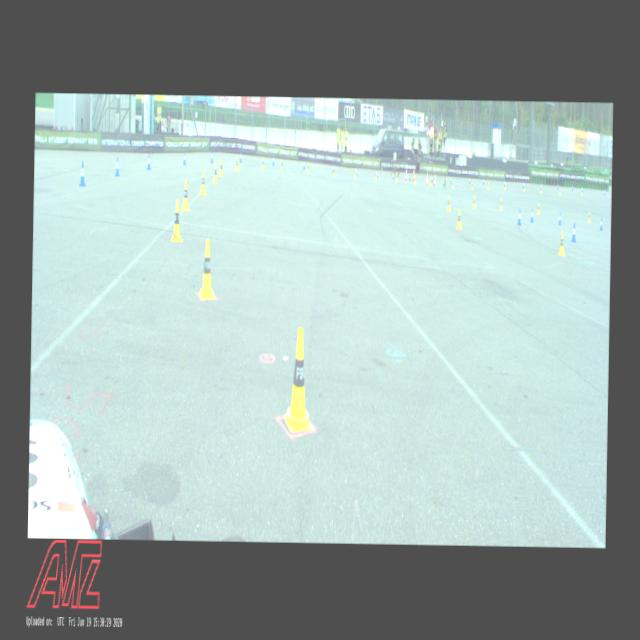blue_cone: (78, 161, 85, 186), (114, 156, 119, 176), (572, 223, 576, 241), (146, 153, 150, 170), (517, 209, 521, 225), (530, 207, 534, 222), (182, 150, 186, 164), (599, 217, 602, 230), (558, 212, 561, 224), (210, 151, 213, 163), (272, 154, 274, 166), (240, 152, 242, 162), (302, 160, 304, 168)
large_orange_cone: (426, 171, 428, 185), (412, 167, 414, 181), (433, 174, 435, 187), (404, 168, 406, 180)
yellow_cone: (283, 327, 313, 432), (198, 238, 216, 299), (170, 198, 182, 242), (181, 180, 190, 210), (200, 169, 206, 194), (558, 232, 564, 256), (212, 162, 218, 182), (456, 210, 462, 228), (218, 158, 222, 176), (446, 194, 450, 210), (234, 156, 238, 170), (498, 198, 502, 210), (587, 212, 591, 222), (472, 195, 475, 208), (261, 157, 264, 170), (306, 162, 309, 174), (536, 203, 539, 214), (280, 160, 283, 170), (374, 170, 376, 180), (354, 168, 356, 178), (333, 167, 335, 176)
